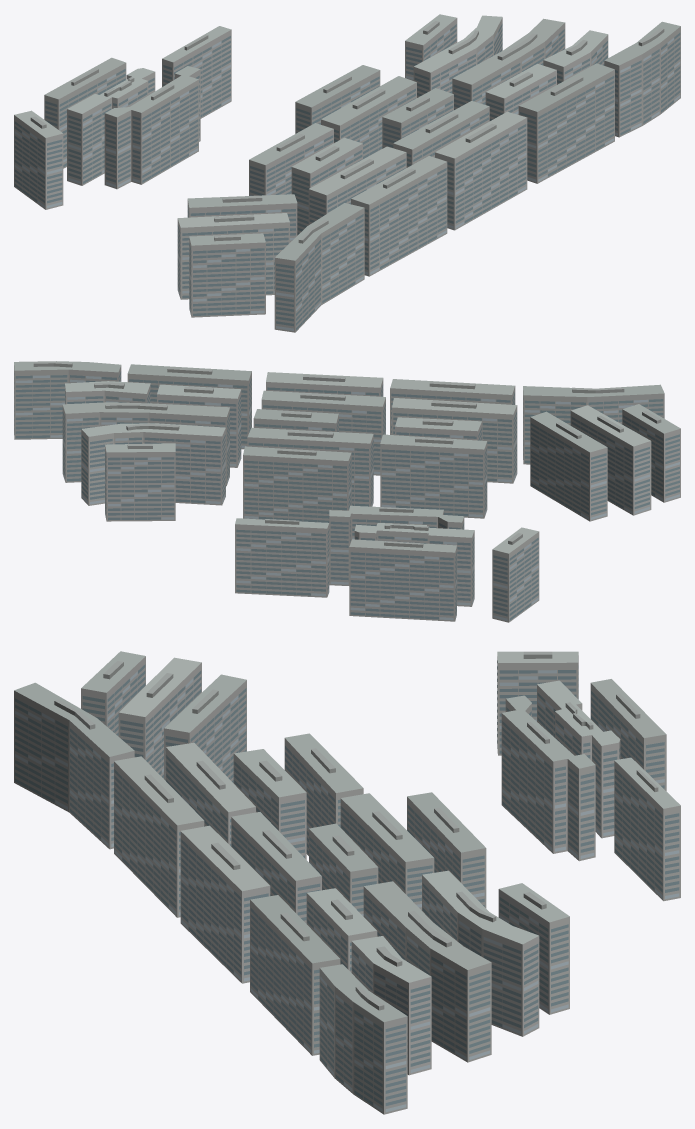
The model's file is apt-a15210211.glb.
3 views of the same model, one above another, from view 1: azimuth 30°, elevation 25°; view 2: azimuth 150°, elevation 25°; view 3: azimuth 270°, elevation 25° (orthographic). The views are drawn at different scales.
Parts seen in each view (by area): view 1: apt-a15210211; view 2: apt-a15210211; view 3: apt-a15210211.
Boxes of the visible parts, x1,y1,x2,y2 form: apt-a15210211: [14, 14, 680, 332]; apt-a15210211: [14, 361, 680, 622]; apt-a15210211: [14, 651, 680, 1114].
Size of the model in its own units: 394 by 47.81 by 299.
